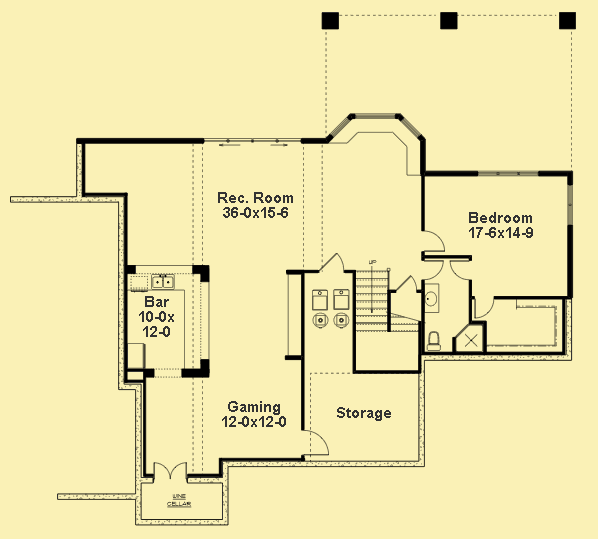door: (298, 427, 331, 458), (151, 460, 187, 481), (449, 256, 475, 283), (419, 228, 445, 253), (420, 257, 444, 282), (314, 252, 343, 271), (473, 296, 495, 320)
large_sink: (424, 329, 444, 355)
small_sink: (422, 283, 439, 313)
stairs: (353, 256, 420, 375)
twin_sink: (149, 273, 175, 290)
windows: (475, 166, 540, 179)
